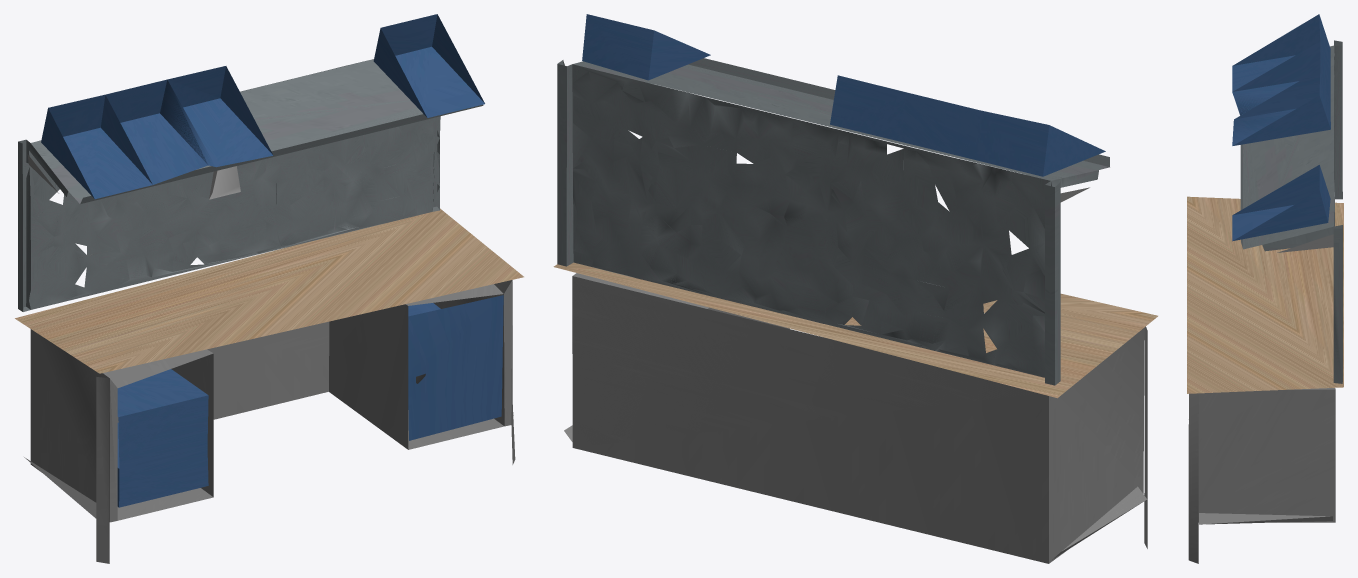
File: simready-workbench-standard.lite.0c83b957.glb
The picture shows the model from 3 angles, left to right: view 1: azimuth 30°, elevation 25°; view 2: azimuth 150°, elevation 25°; view 3: azimuth 270°, elevation 25°; orthographic projection. The views are drawn at different scales.
Visible parts, largest first — view 1: model; view 2: model; view 3: model.
Boxes of the visible parts, bbox=[...] form: model: bbox=[15, 14, 523, 563]; model: bbox=[553, 14, 1157, 563]; model: bbox=[1187, 14, 1343, 563].
Bounding box in the file's own units: 1.53 × 1.38 × 0.5319.
6 materials, 6 textured.
